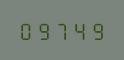four: (69, 20, 85, 40)
nine: (35, 20, 51, 40), (86, 20, 102, 40)
seven: (52, 20, 68, 40)
zero: (18, 20, 34, 40)
